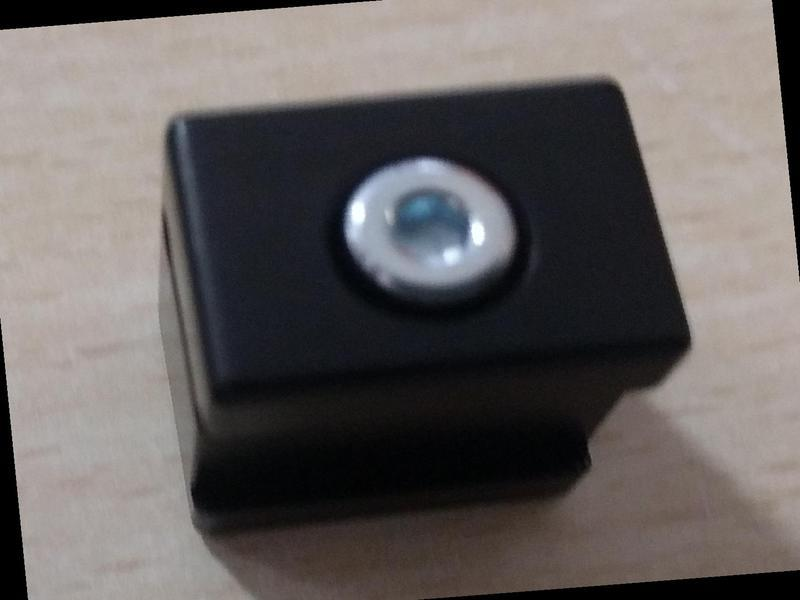smallObject: (115, 72, 723, 552)
